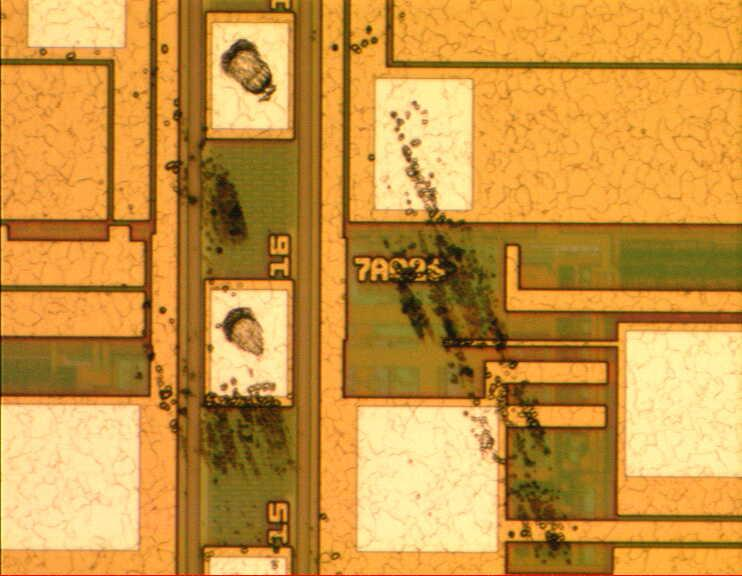PO CONTAMINATION: (35, 10, 582, 576)
